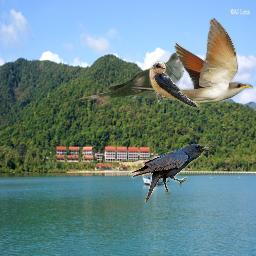Crow: (129, 144, 209, 203)
Cuckoo: (131, 18, 253, 103), (65, 51, 185, 106)
Swallow: (149, 59, 202, 110)
